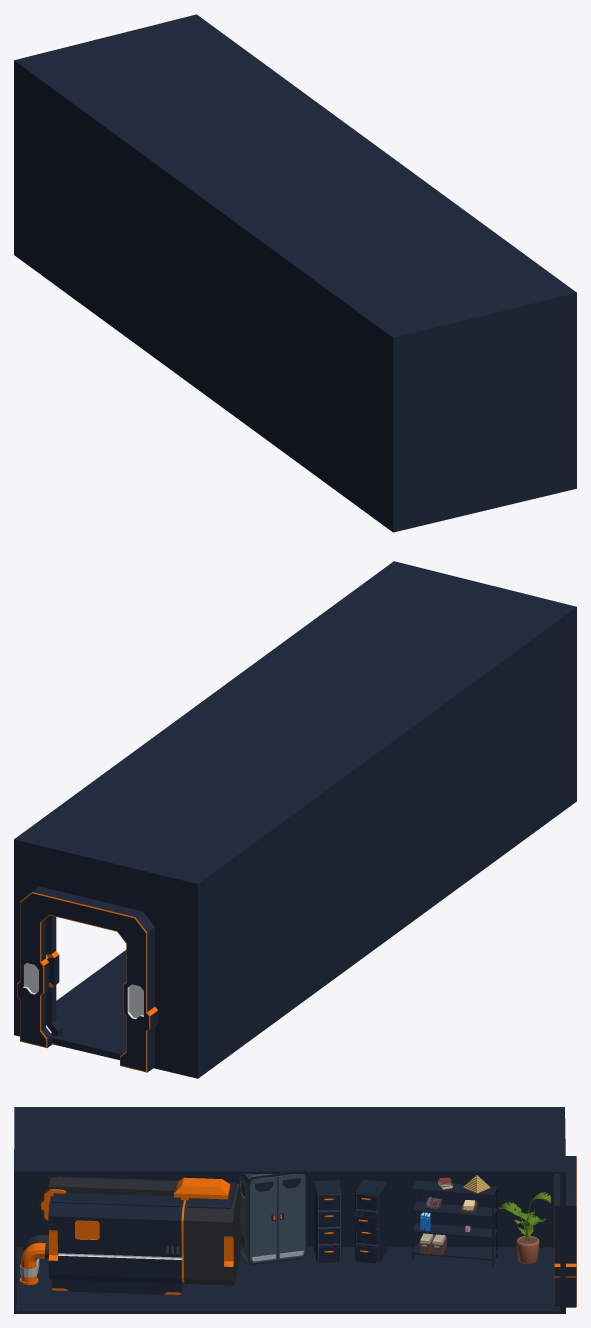
Rendered from Room_0.fbx.
3 renders of one model, top to bottom at view 1: azimuth 30°, elevation 25°; view 2: azimuth 150°, elevation 25°; view 3: azimuth 270°, elevation 25°, orthographic. The views are drawn at different scales.
Parts seen in each view (by area): view 1: Cube.011; view 2: Cube.011, Cube.038; view 3: Cube.011, Cylinder.093, Cube.247, Cube.046, Cube.038, Cube.220, Cube.226, Cylinder.085, Pyramid.
Boxes of the visible parts, x1,y1,x2,y2 form: Cube.011: [14, 14, 576, 532]; Cube.011: [14, 561, 576, 1078]; Cube.038: [17, 886, 158, 1072]; Cube.011: [14, 1107, 565, 1313]; Cylinder.093: [19, 1176, 240, 1294]; Cube.247: [239, 1174, 307, 1264]; Cube.046: [412, 1180, 497, 1265]; Cube.038: [554, 1156, 576, 1307]; Cube.220: [354, 1179, 386, 1263]; Cube.226: [314, 1180, 341, 1262]; Cylinder.085: [499, 1192, 550, 1263]; Pyramid: [463, 1175, 490, 1193].
Size of the model in its own units: 203 by 207 by 743.
Materials: 8 (8 with a texture image).
